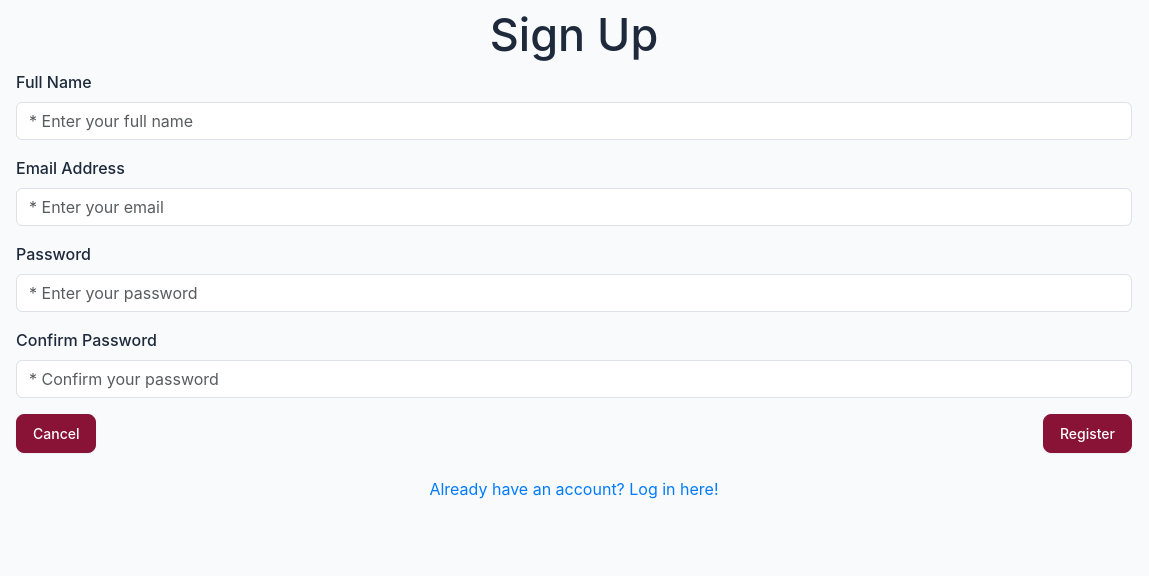
Test case: SignupPage › displays validation error when form is invalid
Type "John Doe" into the field with placeholder "* Enter your full name" at (574, 121), box [16,102,1132,140]
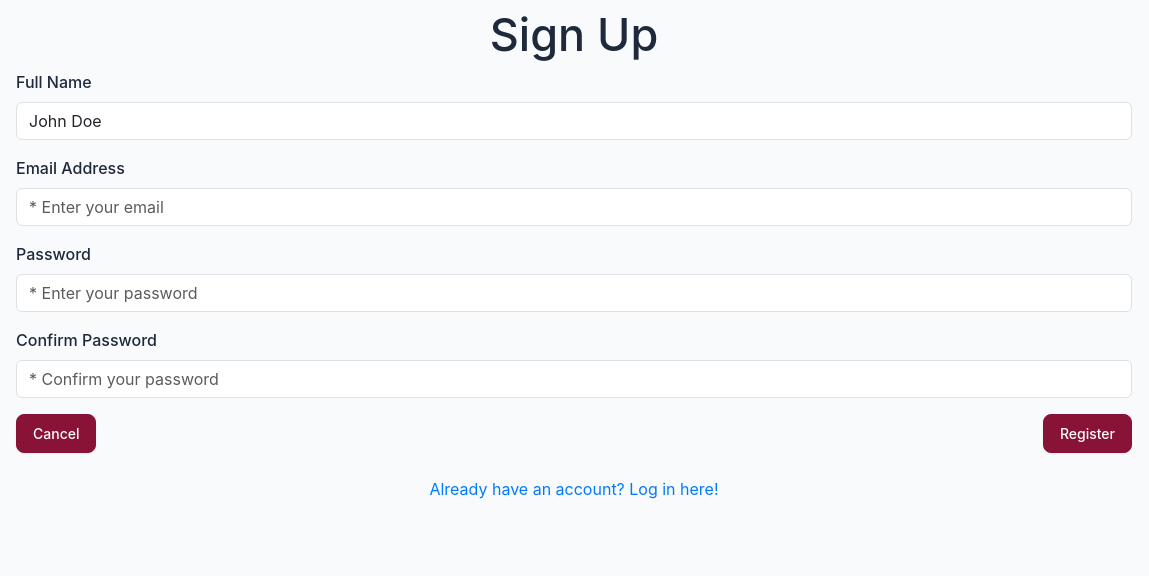
Type "john@example.com" into the field with placeholder "* Enter your email" at (574, 207), box [16,188,1132,226]
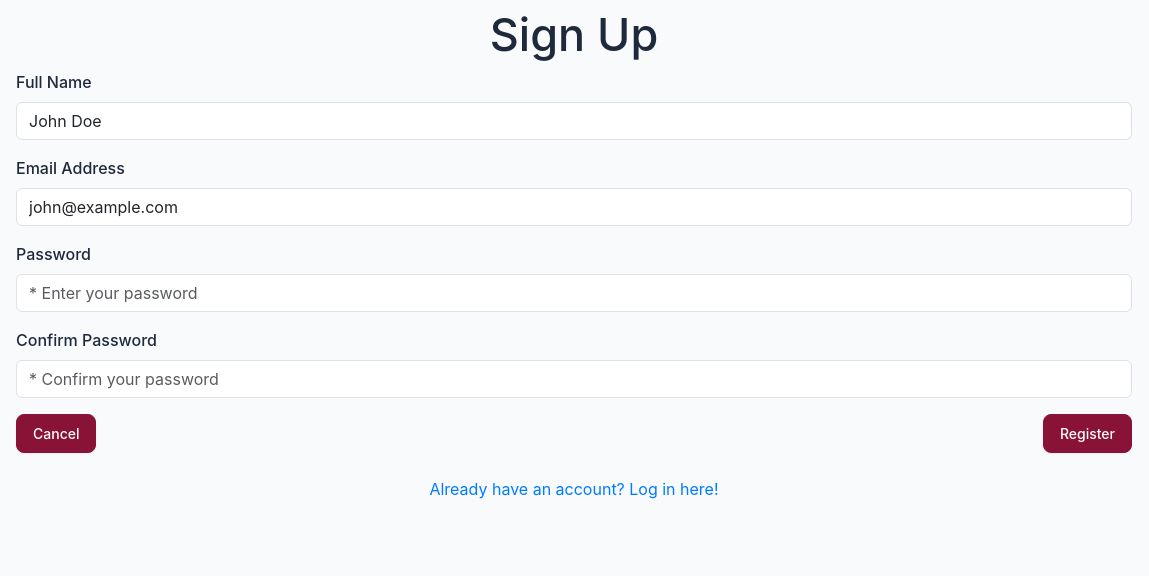
Type "password123" into the password field with placeholder "* Enter your password" at (574, 293), box [16,274,1132,312]
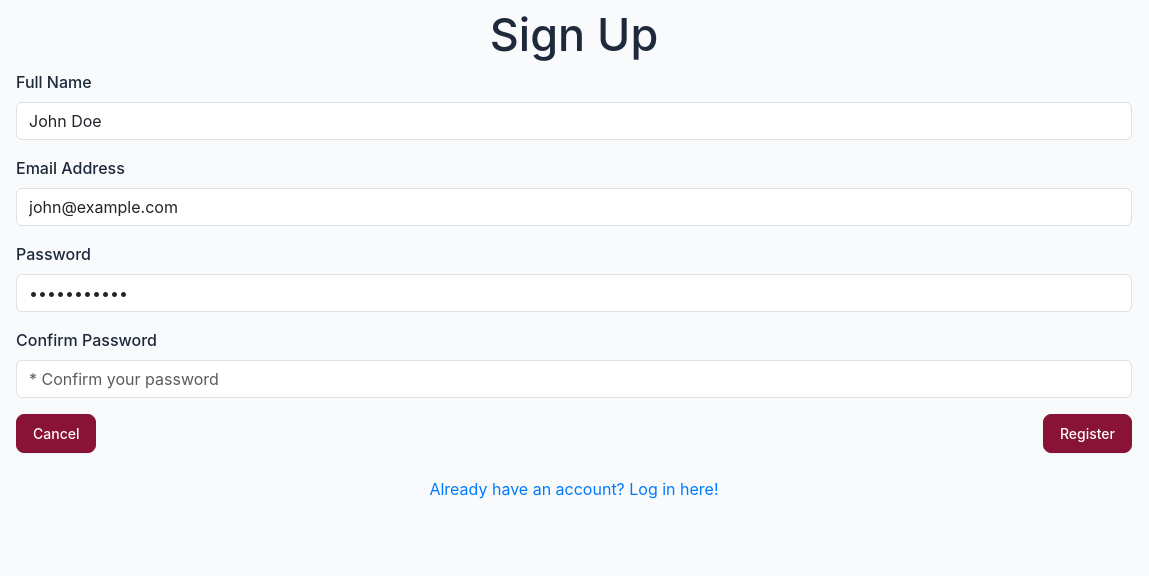
Type "different" into the password field with placeholder "* Confirm your password" at (574, 379), box [16,360,1132,398]
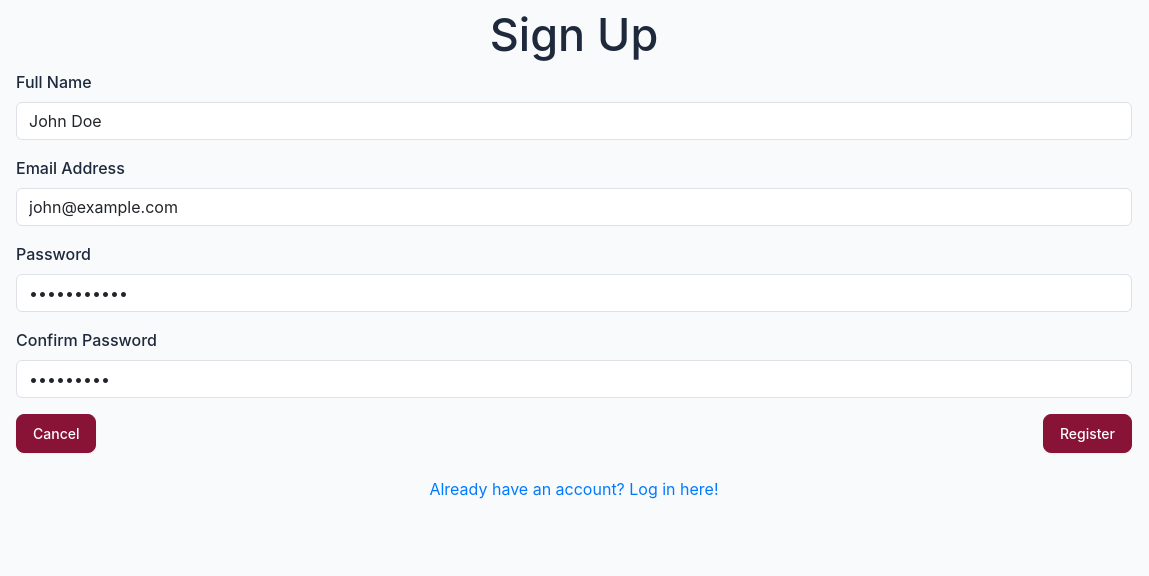
Click the button "Register" at (1087, 434), box [1043,414,1132,453]
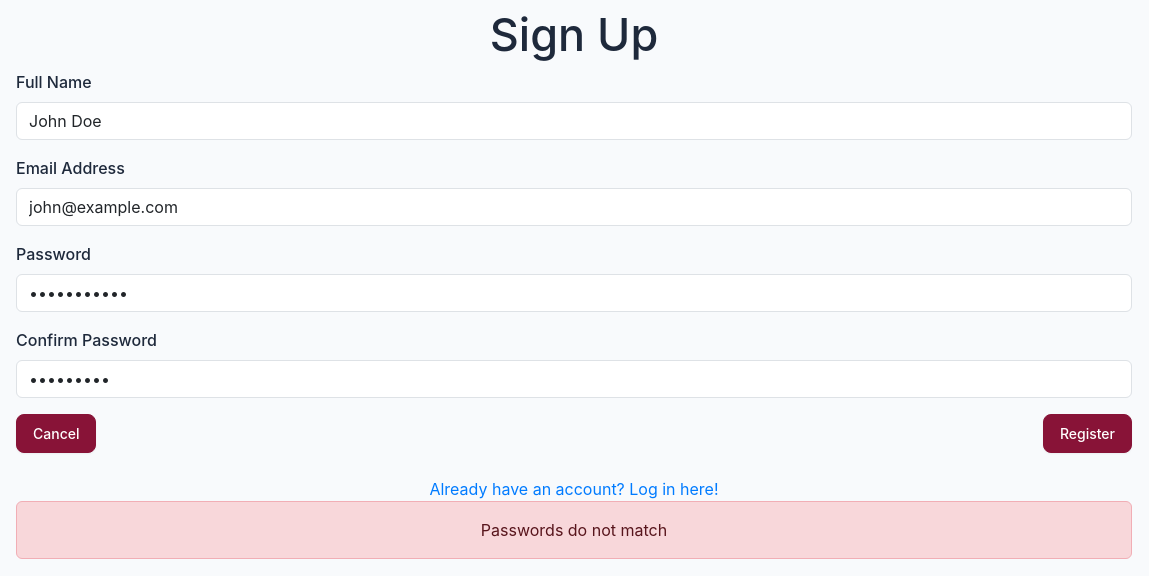
Result: the text "Passwords do not match" is shown at [16,501,1132,559]
